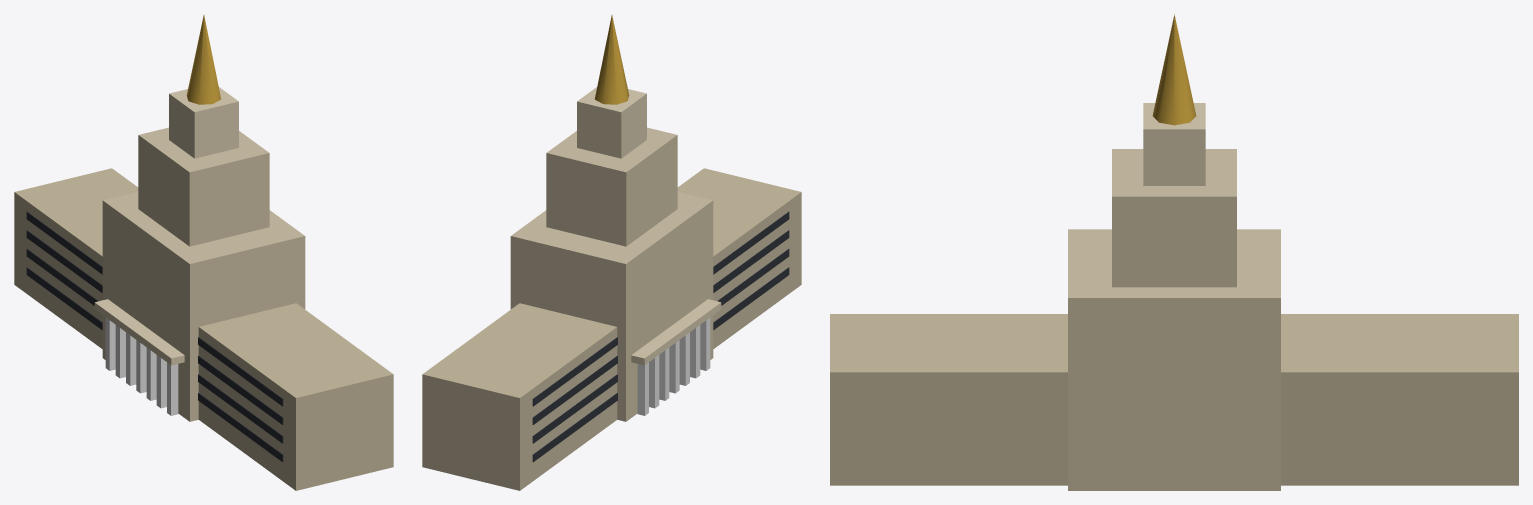
The model's file is theme-university-1.glb.
3 renders of one model, left to right at view 1: azimuth 30°, elevation 25°; view 2: azimuth 150°, elevation 25°; view 3: azimuth 270°, elevation 25°, orthographic. The views are drawn at different scales.
Visible parts, largest first — view 1: 03_#c8bca0, 04_#d0c4a8, 02_#2e333b_noshadow, 01_#d8ccb0, 05_#c9a13a, solid.006, solid.001, solid, solid.005, solid.004, solid.003, solid.002; view 2: 03_#c8bca0, 04_#d0c4a8, 02_#2e333b_noshadow, 01_#d8ccb0, 05_#c9a13a, solid, solid.005, solid.001, solid.006, solid.002, solid.003, solid.004; view 3: 03_#c8bca0, 04_#d0c4a8, 01_#d8ccb0, 05_#c9a13a.
Part boxes in pixels (x1=…): 03_#c8bca0: x1=14, y1=168, x2=393, y2=490; 04_#d0c4a8: x1=102, y1=127, x2=305, y2=421; 02_#2e333b_noshadow: x1=26, y1=211, x2=283, y2=462; 01_#d8ccb0: x1=94, y1=87, x2=238, y2=365; 05_#c9a13a: x1=186, y1=15, x2=221, y2=104; solid.006: x1=167, y1=362, x2=178, y2=415; solid.001: x1=115, y1=325, x2=125, y2=378; solid: x1=105, y1=317, x2=115, y2=370; solid.005: x1=156, y1=355, x2=166, y2=408; solid.004: x1=146, y1=347, x2=156, y2=400; solid.003: x1=136, y1=340, x2=146, y2=393; solid.002: x1=126, y1=332, x2=136, y2=385; 03_#c8bca0: x1=422, y1=168, x2=801, y2=490; 04_#d0c4a8: x1=510, y1=127, x2=713, y2=421; 02_#2e333b_noshadow: x1=532, y1=211, x2=789, y2=462; 01_#d8ccb0: x1=577, y1=87, x2=721, y2=365; 05_#c9a13a: x1=594, y1=15, x2=629, y2=104; solid: x1=637, y1=362, x2=648, y2=415; solid.005: x1=690, y1=325, x2=700, y2=378; solid.001: x1=649, y1=355, x2=659, y2=408; solid.006: x1=700, y1=317, x2=710, y2=370; solid.002: x1=659, y1=347, x2=669, y2=400; solid.003: x1=669, y1=340, x2=679, y2=393; solid.004: x1=679, y1=332, x2=689, y2=385; 03_#c8bca0: x1=830, y1=314, x2=1518, y2=485; 04_#d0c4a8: x1=1068, y1=149, x2=1280, y2=490; 01_#d8ccb0: x1=1143, y1=103, x2=1205, y2=185; 05_#c9a13a: x1=1152, y1=14, x2=1196, y2=125.
Size of the model in its own units: 29 by 78 by 110.
